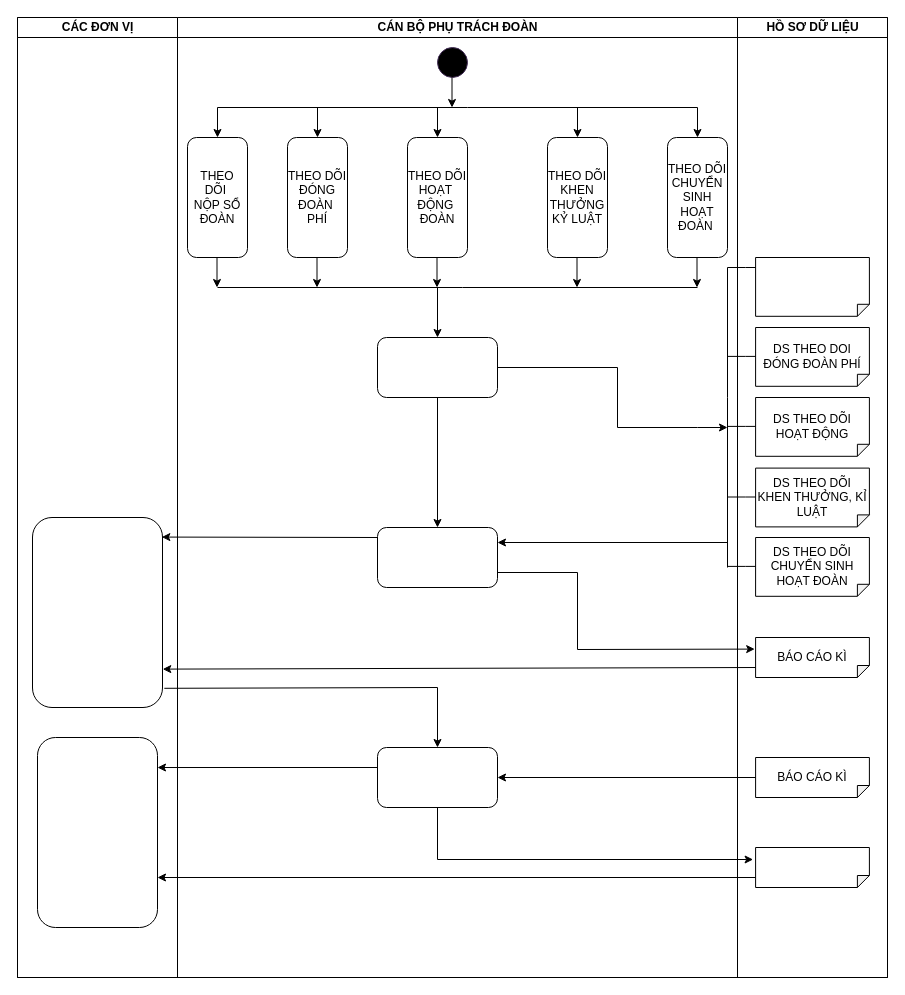
Some shapes in this 905 by 995 pixel diagram are drawn without their labels. Each missing label, with the centre of its shape:
BÁO CÁO NĂM: (812,867)
DS THEO DÕI NỘP SỔ ĐOÀN: (812,286)
GHI SỔ THEO DÕI: (437,367)
LẬP DS BÁO CÁO KÌ: (437,557)
LẬP DS BÁO CÁO NĂM: (437,777)
TIẾP NHẬN BÁO CÁO CÁC KÌ: (97,612)
TIẾP NHẬN BÁO CÁO NĂM: (97,832)
